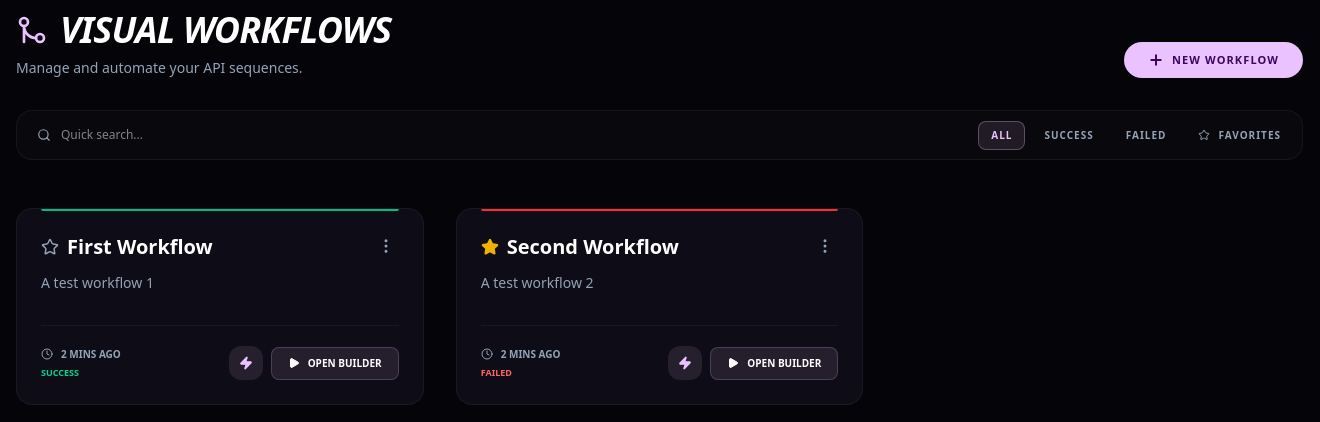
Test: WorkflowList Component › handles status filter correctly
Expected: the heading "First Workflow" is shown, x1=67 y1=233 x2=213 y2=261
Expected: the heading "Second Workflow" is shown, x1=507 y1=233 x2=679 y2=261
# Filter SUCCESS
What coordinates should you click on to do the following:
click the button "SUCCESS"
I would click on:
 (1069, 135)
Its box is x1=1032 y1=120 x2=1107 y2=150.
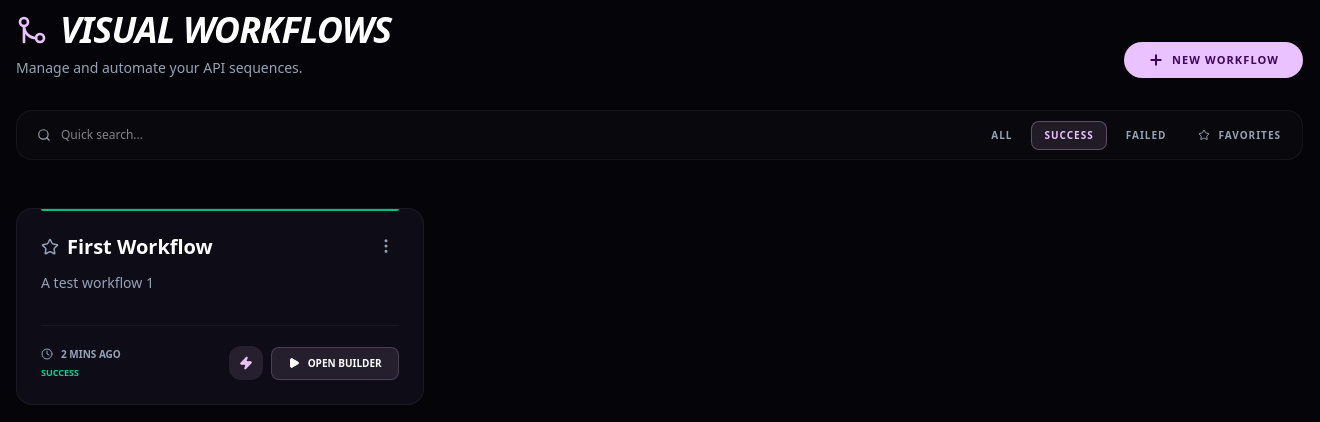
Expected: the heading "First Workflow" is shown, x1=67 y1=233 x2=213 y2=261
Expected: the heading "Second Workflow" is gone
# Filter FAILED
What coordinates should you click on to do the following:
click the button "FAILED"
I would click on:
 (1146, 135)
Its box is x1=1113 y1=120 x2=1179 y2=150.
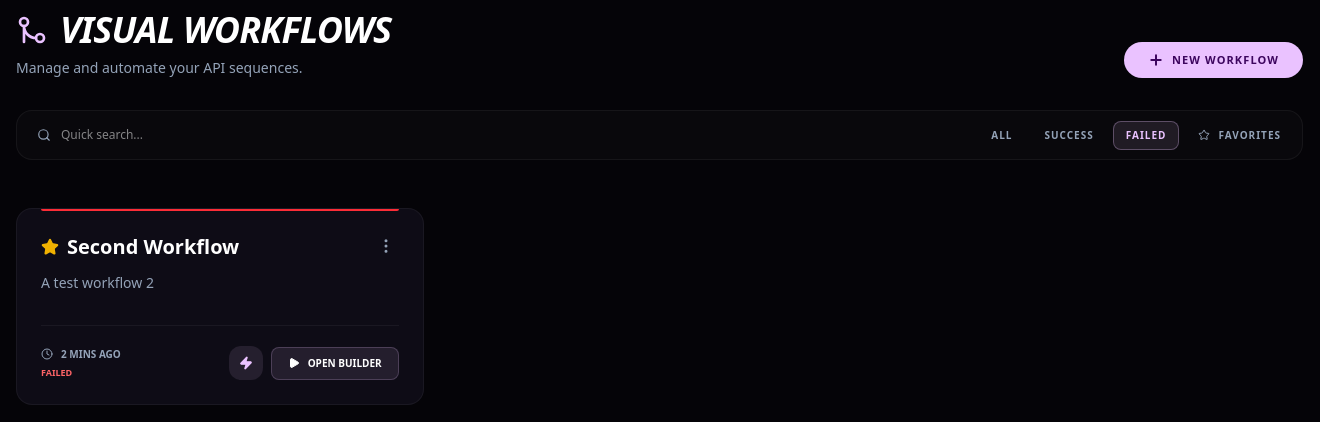
Expected: the heading "First Workflow" is gone
Expected: the heading "Second Workflow" is shown, x1=67 y1=233 x2=239 y2=261
